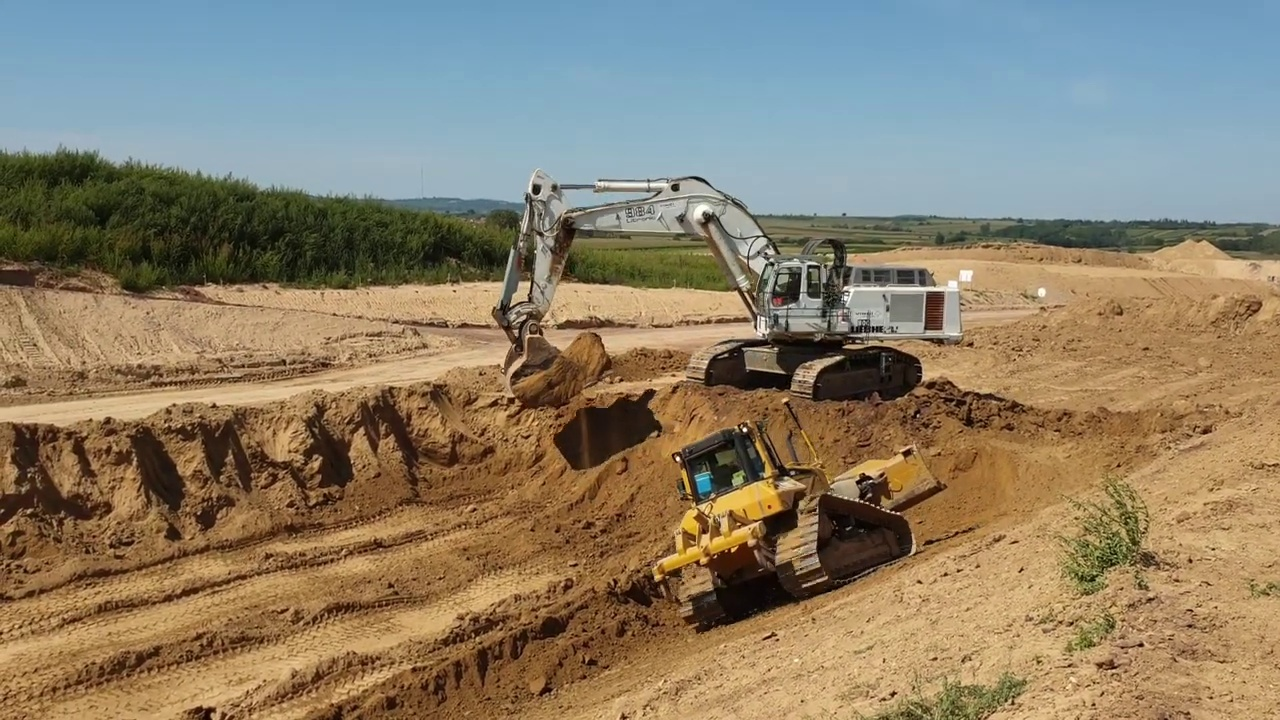bulldozer: (643, 396, 949, 637)
excavator: (485, 162, 968, 414)
